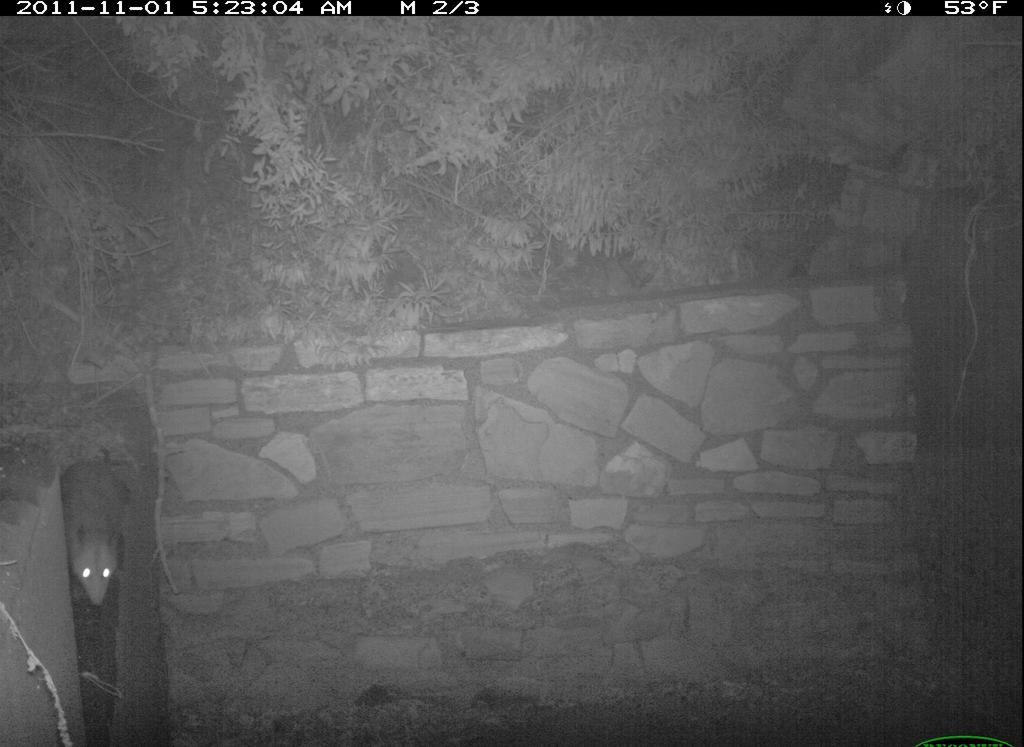opossum: (45, 417, 136, 626)
